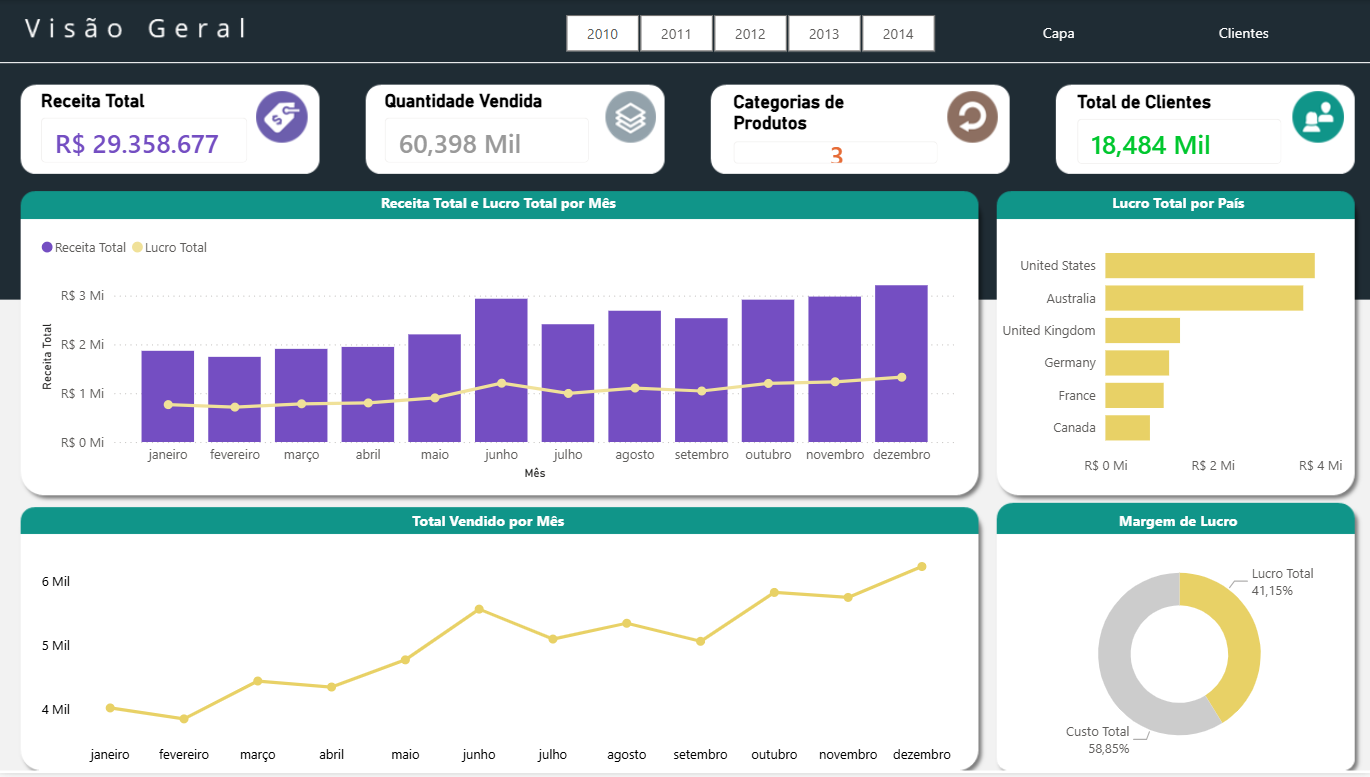

The page's visual inventory and layout, read from the dashboard file:
{"tool":"powerbi","page":{"name":"GERAL","canvas":[1280,720],"ordinal":1},"visuals":[{"type":"cardVisual","title":"Receita Total","fields":{"Data":["Sum(RESULTADOS_ADW.RECEITA VENDA)"]},"box":[36.2,83.8,202.5,73.8],"z":0},{"type":"cardVisual","title":"Quantidade Vendida","fields":{"Data":["Sum(RESULTADOS_ADW.QTD. VENDIDA)"]},"box":[355.8,83.7,200,73.3],"z":1000},{"type":"cardVisual","title":"Categorias de Produtos","fields":{"Data":["Count(RESULTADOS_ADW.CATEGORIA PRODUTO)"]},"box":[680.2,84.9,200,73.3],"z":2000},{"type":"cardVisual","title":"Total de Clientes","fields":{"Data":["Count(RESULTADOS_ADW.ID CLIENTE)"]},"box":[1000,84.9,200,73.3],"z":3000},{"type":"lineClusteredColumnComboChart","fields":{"Category":["RESULTADOS_ADW.DATA PEDIDO.Variation.Hierarquia de datas.Mês"],"Y":["Sum(RESULTADOS_ADW.RECEITA VENDA)"],"Y2":["Sum(RESULTADOS_ADW.LUCRO VENDA)"]},"box":[36,210.5,860.5,240.7],"z":4000},{"type":"textbox","box":[324,175,284,28],"z":5000},{"type":"textbox","box":[957.5,175,283.8,27.5],"z":6000},{"type":"textbox","box":[315,470,283.8,27.5],"z":7000},{"type":"clusteredBarChart","fields":{"Category":["RESULTADOS_ADW.PAÍS"],"Y":["Sum(RESULTADOS_ADW.LUCRO VENDA)"]},"box":[923.8,210,333.8,241.2],"z":8000},{"type":"lineChart","fields":{"Category":["RESULTADOS_ADW.DATA PEDIDO.Variation.Hierarquia de datas.Mês"],"Y":["Sum(RESULTADOS_ADW.QTD. VENDIDA)"]},"box":[36.2,497.5,860,222.5],"z":9000},{"type":"textbox","box":[957.5,470,283.8,27.5],"z":10000},{"type":"donutChart","fields":{"Y":["Sum(RESULTADOS_ADW.LUCRO VENDA)","Sum(RESULTADOS_ADW.CUSTO VENDA)"]},"box":[958,498,284,222],"z":11000},{"type":"slicer","fields":{"Values":["RESULTADOS_ADW.DATA PEDIDO.Variation.Hierarquia de datas.Ano"]},"box":[506.2,8.8,390,43.8],"z":12000},{"type":"actionButton","box":[905.8,3.5,164,53.5],"z":12001},{"type":"actionButton","box":[1077.9,3.5,164,53.5],"z":12002}]}

Visuals, with their boxes in screenshot pixels (x1, y1, x2, y2), scaled from the page's 1280x720 canvas onto the 1370x777 screenshot:
"Receita Total" cardVisual: l=39, t=90, r=255, b=170
"Quantidade Vendida" cardVisual: l=381, t=90, r=595, b=169
"Categorias de Produtos" cardVisual: l=728, t=92, r=942, b=171
"Total de Clientes" cardVisual: l=1070, t=92, r=1284, b=171
lineClusteredColumnComboChart - RESULTADOS_ADW.DATA PEDIDO.Variation.Hierarquia de datas.Mês x Sum(RESULTADOS_ADW.RECEITA VENDA): l=39, t=227, r=960, b=487
textbox: l=347, t=189, r=651, b=219
textbox: l=1025, t=189, r=1329, b=219
textbox: l=337, t=507, r=641, b=537
clusteredBarChart - RESULTADOS_ADW.PAÍS x Sum(RESULTADOS_ADW.LUCRO VENDA): l=989, t=227, r=1346, b=487
lineChart - RESULTADOS_ADW.DATA PEDIDO.Variation.Hierarquia de datas.Mês x Sum(RESULTADOS_ADW.QTD. VENDIDA): l=39, t=537, r=959, b=776
textbox: l=1025, t=507, r=1329, b=537
donutChart - Sum(RESULTADOS_ADW.LUCRO VENDA) x Sum(RESULTADOS_ADW.CUSTO VENDA): l=1025, t=537, r=1329, b=776
slicer - RESULTADOS_ADW.DATA PEDIDO.Variation.Hierarquia de datas.Ano: l=542, t=9, r=959, b=57
actionButton: l=969, t=4, r=1145, b=62
actionButton: l=1154, t=4, r=1329, b=62
